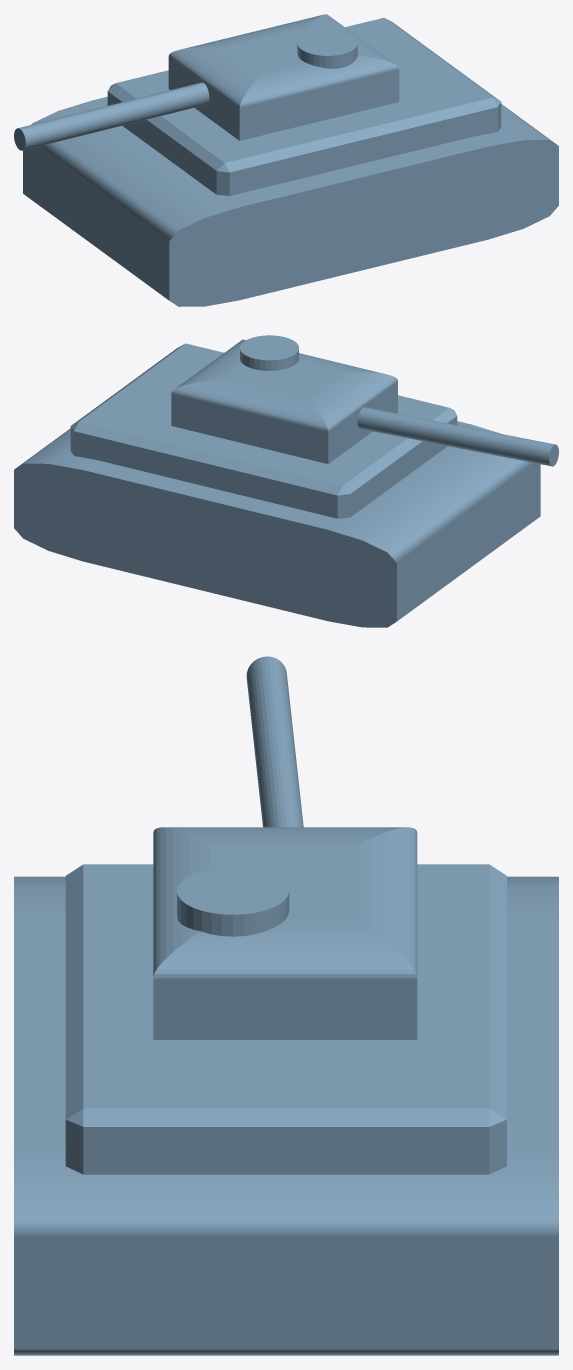
File: tank-textured.fbx
The picture shows the model from 3 angles, top to bottom: view 1: azimuth 30°, elevation 25°; view 2: azimuth 150°, elevation 25°; view 3: azimuth 270°, elevation 25°; orthographic projection. The views are drawn at different scales.
Parts seen in each view (by area): view 1: Cube.001, Cube, Cube.002, Cylinder, Cylinder.001; view 2: Cube.001, Cube, Cube.002, Cylinder, Cylinder.001; view 3: Cube.001, Cube, Cube.002, Cylinder, Cylinder.001.
Boxes of the visible parts, box(x1,y1,x2,y2) form: Cube.001: box(23, 96, 558, 306); Cube: box(107, 17, 501, 195); Cube.002: box(168, 14, 399, 140); Cylinder: box(14, 82, 209, 150); Cylinder.001: box(297, 30, 357, 68); Cube.001: box(14, 421, 540, 627); Cube: box(70, 343, 457, 518); Cube.002: box(171, 339, 397, 463); Cylinder: box(357, 407, 558, 466); Cylinder.001: box(240, 335, 298, 370); Cube.001: box(14, 876, 558, 1355); Cube: box(65, 864, 506, 1174); Cube.002: box(153, 827, 417, 1039); Cylinder: box(246, 656, 303, 827); Cylinder.001: box(177, 867, 289, 936).
Bounding box in the file's own units: 1804 × 651 × 970.
